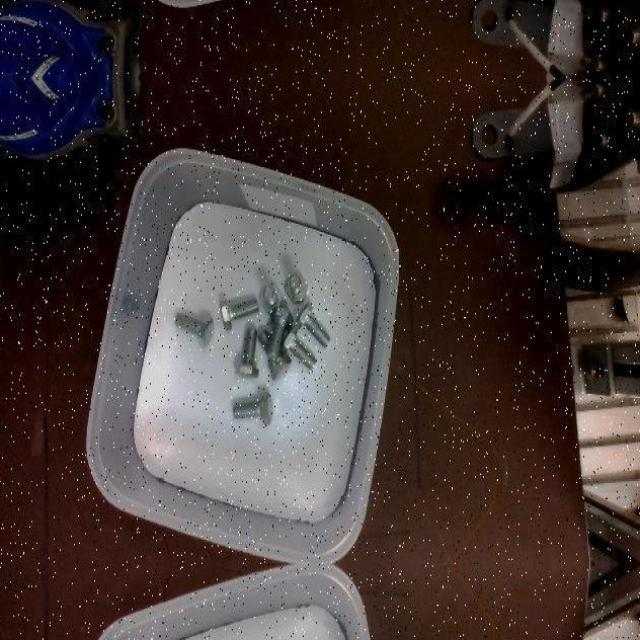screw: (280, 325, 317, 370), (296, 300, 331, 347), (266, 306, 294, 360), (174, 311, 214, 347), (233, 391, 273, 425), (220, 298, 259, 332), (236, 326, 260, 377), (285, 272, 308, 302)
